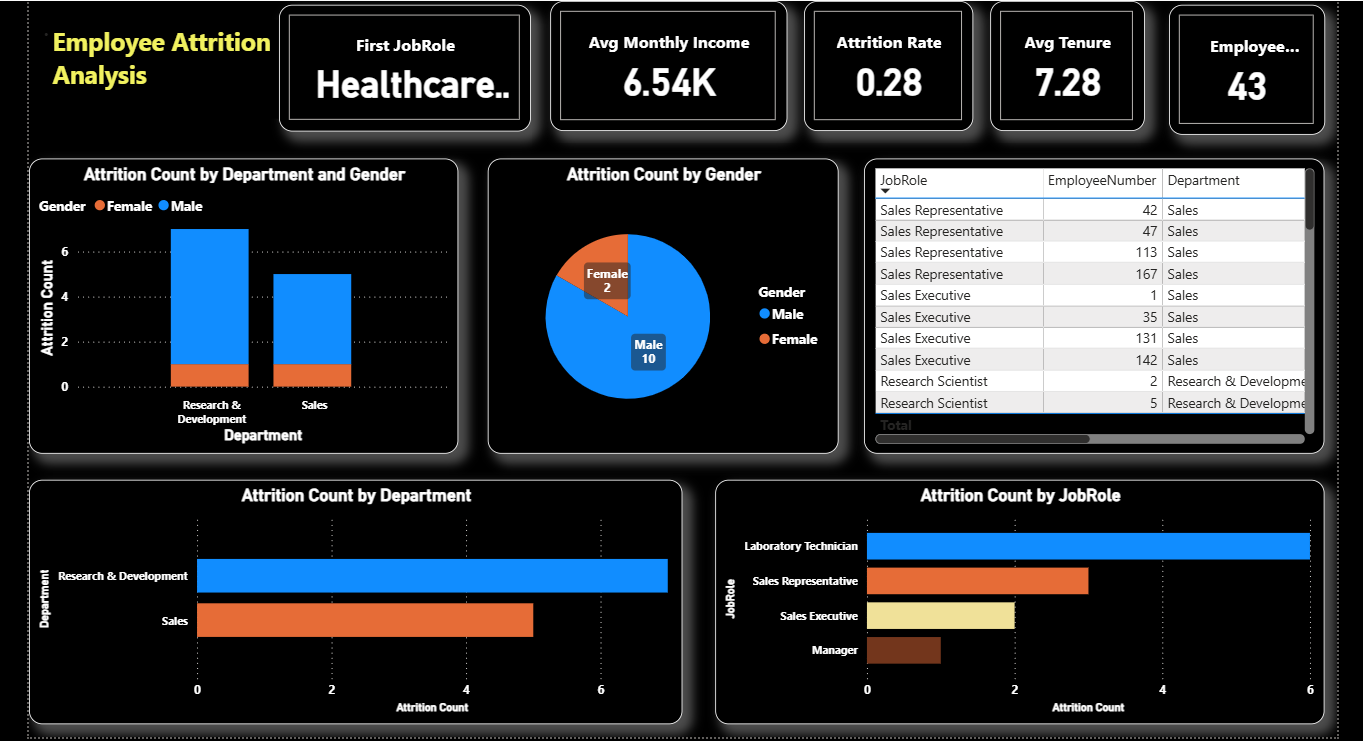

The page's visual inventory and layout, read from the dashboard file:
{"tool":"powerbi","page":{"name":"Page 1","canvas":[1280,720],"ordinal":0},"visuals":[{"type":"cardVisual","fields":{"Data":["HR-Employee-Attrition.Employee Count"]},"box":[1115.2,3.6,152.6,127.5],"z":0},{"type":"cardVisual","fields":{"Data":["HR-Employee-Attrition.Attrition Rate"]},"box":[757.8,0,165.2,127.5],"z":1},{"type":"cardVisual","fields":{"Data":["HR-Employee-Attrition.Avg Monthly Income"]},"box":[510,0,231.7,127.5],"z":2},{"type":"cardVisual","fields":{"Data":["HR-Employee-Attrition.Avg Tenure"]},"box":[941,0,150.8,127.5],"z":3},{"type":"clusteredBarChart","fields":{"Category":["HR-Employee-Attrition.Department"],"Y":["HR-Employee-Attrition.Attrition Count"]},"box":[0,468.7,639.3,238.8],"z":4},{"type":"clusteredBarChart","fields":{"Category":["HR-Employee-Attrition.JobRole"],"Y":["HR-Employee-Attrition.Attrition Count"]},"box":[671.6,468.7,596.2,238.8],"z":5},{"type":"columnChart","fields":{"Category":["HR-Employee-Attrition.Department"],"Y":["HR-Employee-Attrition.Attrition Count"],"Series":["HR-Employee-Attrition.Gender"]},"box":[0,154.4,420.2,289.1],"z":6},{"type":"tableEx","fields":{"Values":["HR-Employee-Attrition.JobRole","HR-Employee-Attrition.EmployeeNumber","HR-Employee-Attrition.Department","HR-Employee-Attrition.Age","Sum(HR-Employee-Attrition.MonthlyIncome)","Sum(HR-Employee-Attrition.YearsAtCompany)","HR-Employee-Attrition.Attrition"]},"box":[817.1,154.4,450.7,289.1],"z":7},{"type":"cardVisual","fields":{"Data":["Min(HR-Employee-Attrition.JobRole)"]},"box":[244.2,3.6,246,123.9],"z":8},{"type":"textbox","box":[0,18,244.2,97],"z":10},{"type":"pieChart","fields":{"Category":["HR-Employee-Attrition.Gender"],"Y":["HR-Employee-Attrition.Attrition Count"]},"box":[448.9,154.4,343,289.1],"z":11}]}

Visuals, with their boxes in screenshot pixels (x1, y1, x2, y2):
cardVisual - HR-Employee-Attrition.Employee Count: rect(1162, 4, 1317, 133)
cardVisual - HR-Employee-Attrition.Attrition Rate: rect(798, 0, 966, 130)
cardVisual - HR-Employee-Attrition.Avg Monthly Income: rect(547, 0, 782, 130)
cardVisual - HR-Employee-Attrition.Avg Tenure: rect(985, 0, 1138, 130)
clusteredBarChart - HR-Employee-Attrition.Department x HR-Employee-Attrition.Attrition Count: rect(28, 476, 678, 719)
clusteredBarChart - HR-Employee-Attrition.JobRole x HR-Employee-Attrition.Attrition Count: rect(711, 476, 1317, 719)
columnChart - HR-Employee-Attrition.Department x HR-Employee-Attrition.Attrition Count: rect(28, 157, 455, 451)
tableEx - HR-Employee-Attrition.JobRole x HR-Employee-Attrition.EmployeeNumber: rect(859, 157, 1317, 451)
cardVisual - Min(HR-Employee-Attrition.JobRole): rect(277, 4, 526, 130)
textbox: rect(28, 18, 277, 117)
pieChart - HR-Employee-Attrition.Gender x HR-Employee-Attrition.Attrition Count: rect(485, 157, 833, 451)
